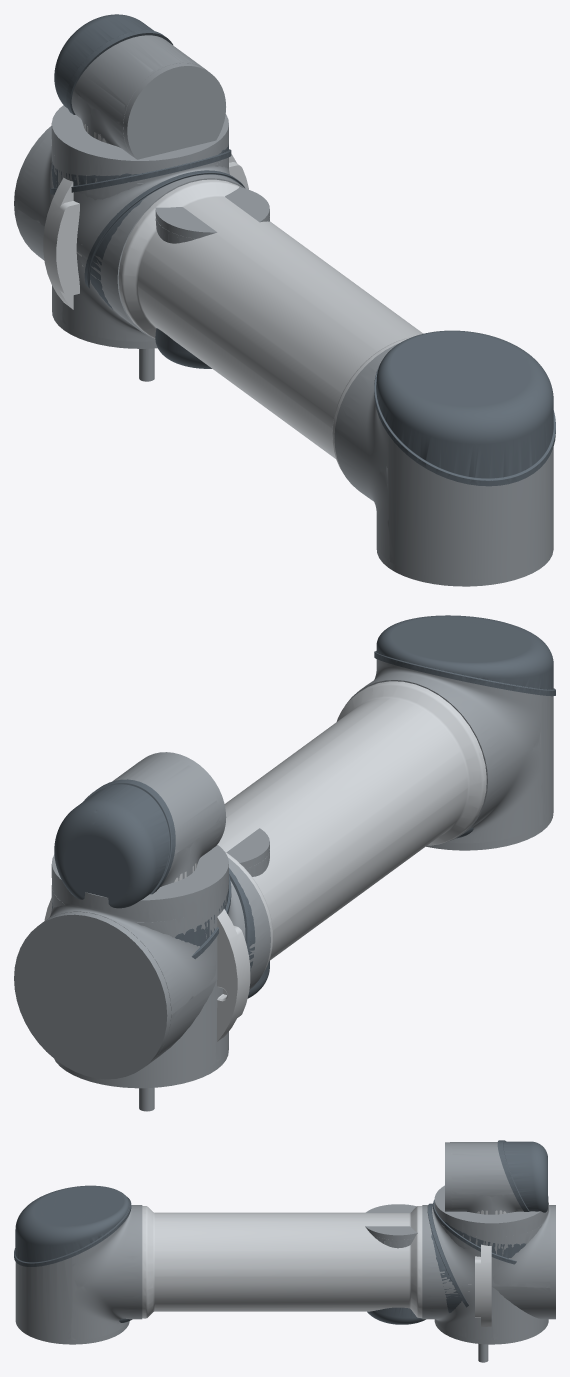
The picture shows the model from 3 angles, top to bottom: view 1: azimuth 30°, elevation 25°; view 2: azimuth 150°, elevation 25°; view 3: azimuth 270°, elevation 25°; orthographic projection. The views are drawn at different scales.
Parts seen in each view (by area): view 1: upperarm, wrist1, shoulder, base, wrist2, forearm; view 2: upperarm, shoulder, wrist1, base, wrist2, forearm; view 3: upperarm, shoulder, wrist1, wrist2, base, forearm.
Boxes of the visible parts, bbox=[...] form: upperarm: bbox=[50, 144, 555, 586]; wrist1: bbox=[54, 14, 225, 159]; shoulder: bbox=[14, 105, 244, 309]; base: bbox=[43, 154, 248, 381]; wrist2: bbox=[155, 187, 269, 368]; forearm: bbox=[51, 146, 228, 200]; upperarm: bbox=[52, 615, 555, 1088]; shoulder: bbox=[14, 844, 255, 1079]; wrist1: bbox=[54, 752, 226, 908]; base: bbox=[44, 898, 250, 1111]; wrist2: bbox=[226, 828, 269, 998]; forearm: bbox=[51, 827, 473, 937]; upperarm: bbox=[14, 1185, 548, 1344]; shoulder: bbox=[427, 1185, 555, 1319]; wrist1: bbox=[445, 1140, 547, 1214]; wrist2: bbox=[365, 1204, 425, 1324]; base: bbox=[468, 1244, 491, 1362]; forearm: bbox=[119, 1224, 542, 1322].
Bounding box in the file's own units: 0.1467 × 0.2424 × 0.5497.
